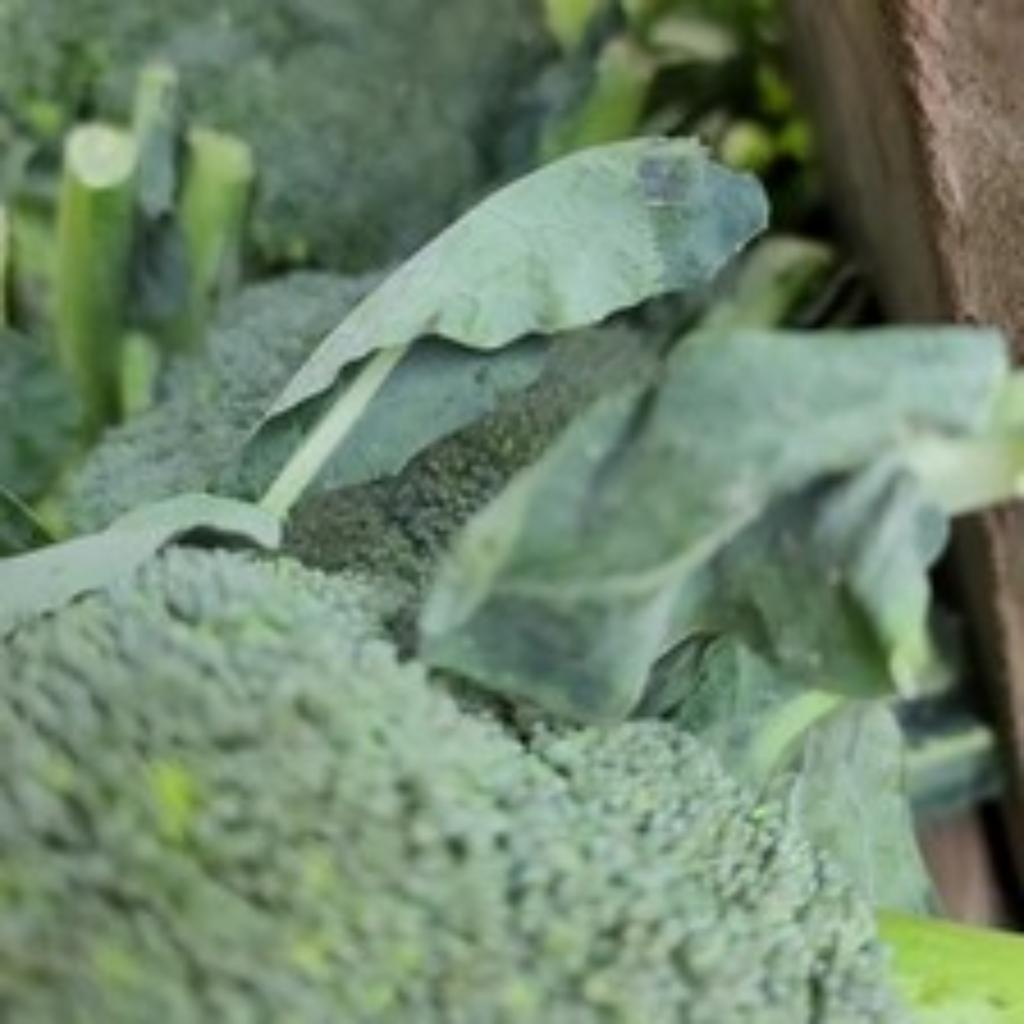Broccoli: (0, 548, 900, 1024), (0, 546, 894, 1024), (288, 322, 661, 649), (288, 330, 648, 651), (66, 274, 378, 533), (70, 272, 378, 533), (449, 836, 468, 863)
